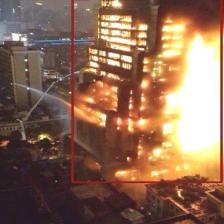fire: (71, 0, 222, 183)
